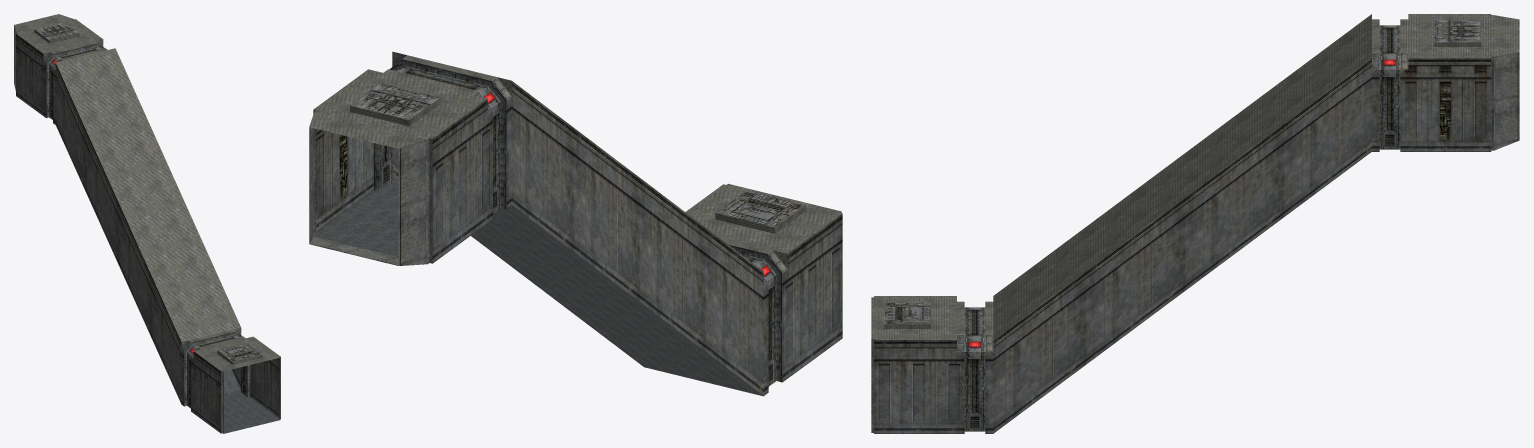
The model's file is poi_all_impl_bunker_abandoned_s01_r4_ramp1_mesh.fbx.
3 views of the same model, side by side, from view 1: azimuth 30°, elevation 25°; view 2: azimuth 150°, elevation 25°; view 3: azimuth 270°, elevation 25° (orthographic). The views are drawn at different scales.
Visible parts, largest first — view 1: mesh_node; view 2: mesh_node; view 3: mesh_node.
Part boxes in pixels (left/top/right/bottom): mesh_node: left=14, top=14, right=280, bottom=433; mesh_node: left=309, top=51, right=842, bottom=396; mesh_node: left=871, top=14, right=1519, bottom=433.
Size of the model in its own units: 4 by 16.2 by 25.
